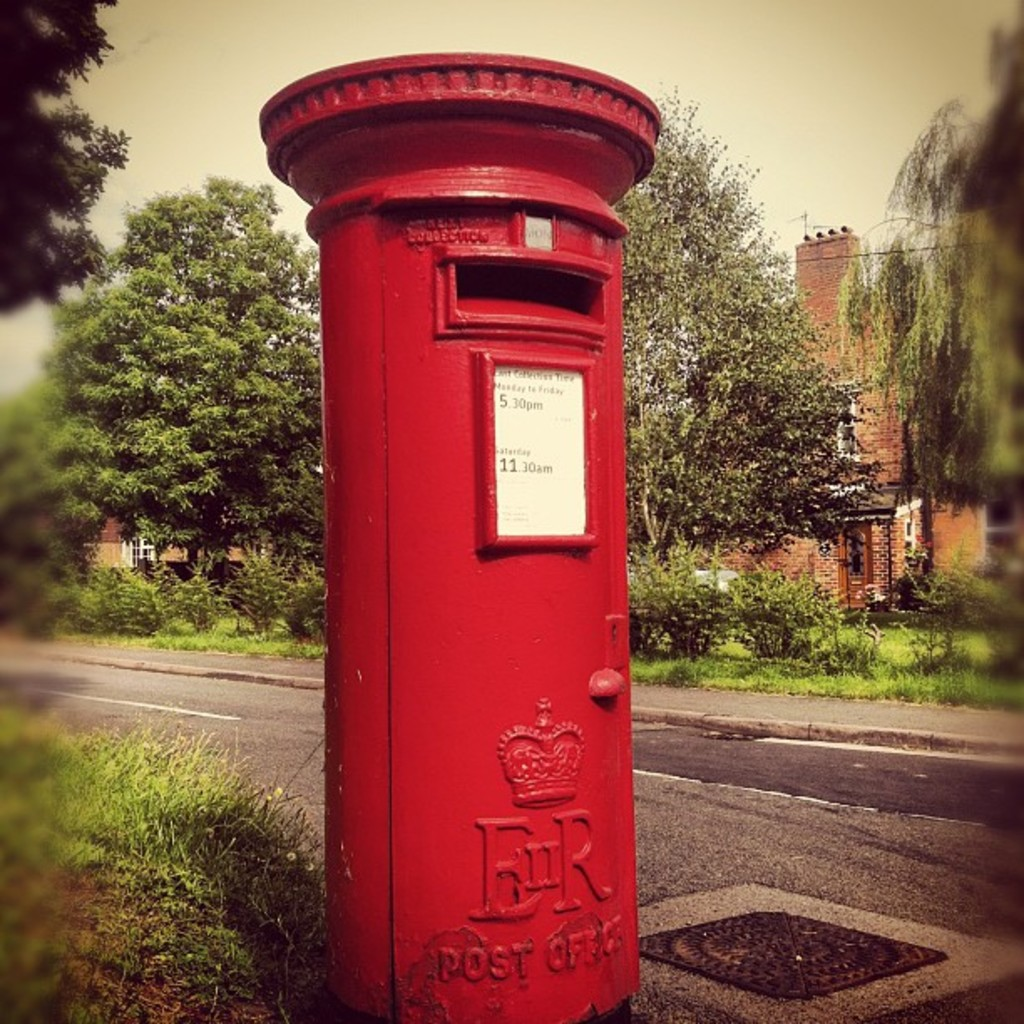Tree: (0, 0, 1023, 662)
